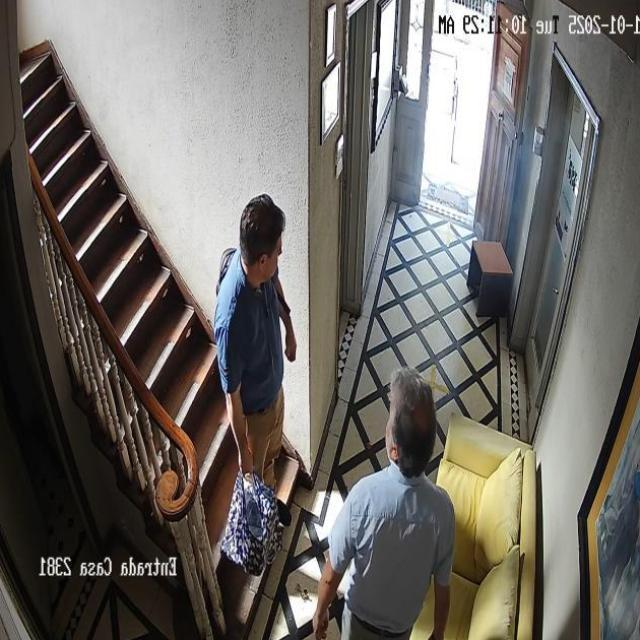fire: (482, 98, 574, 260)
